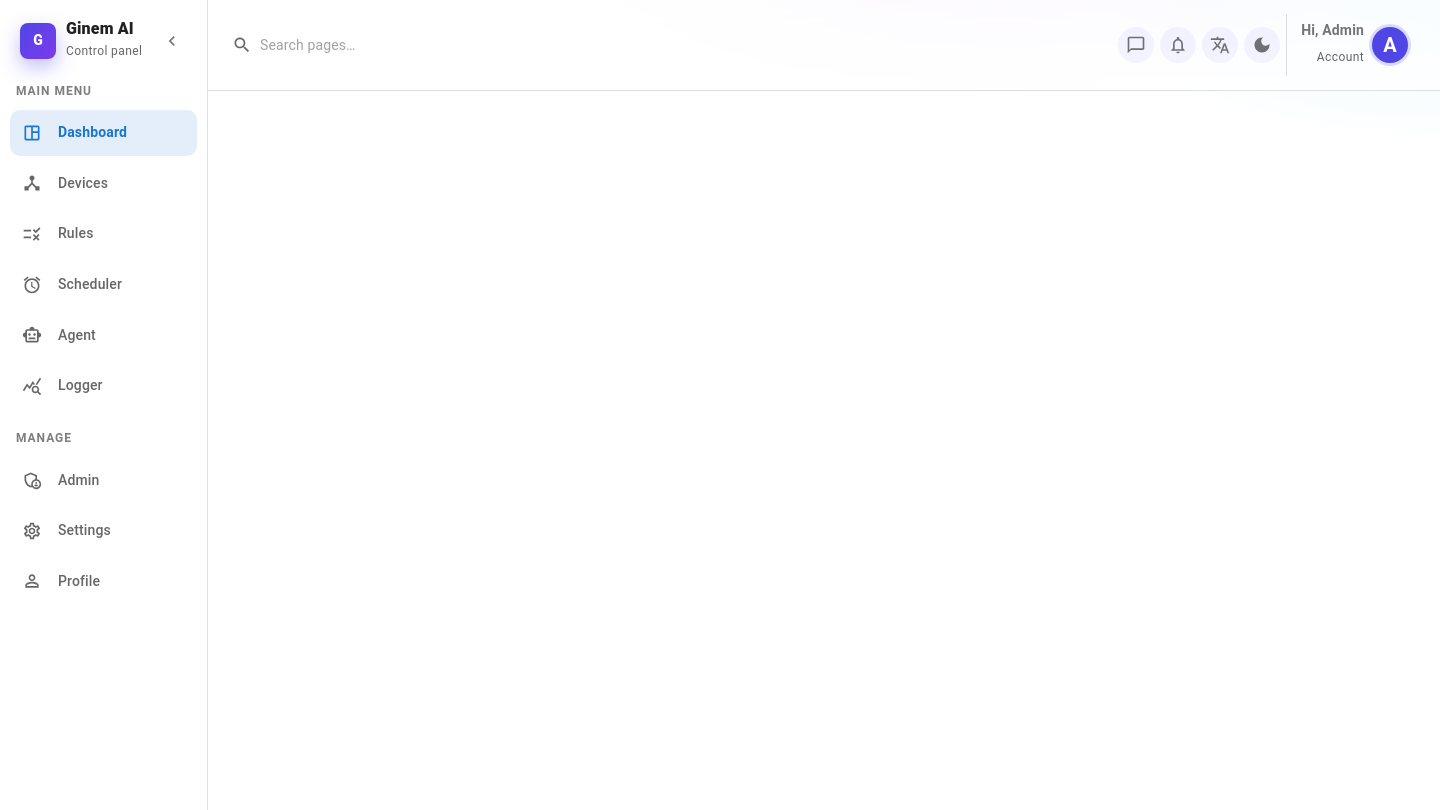
AppLayout sidebar › has no menu button in the header on desktop, the toggle lives in the sidebar
Step 1. Click the button named "Close menu" → click(172, 41), box [157,26,187,56]
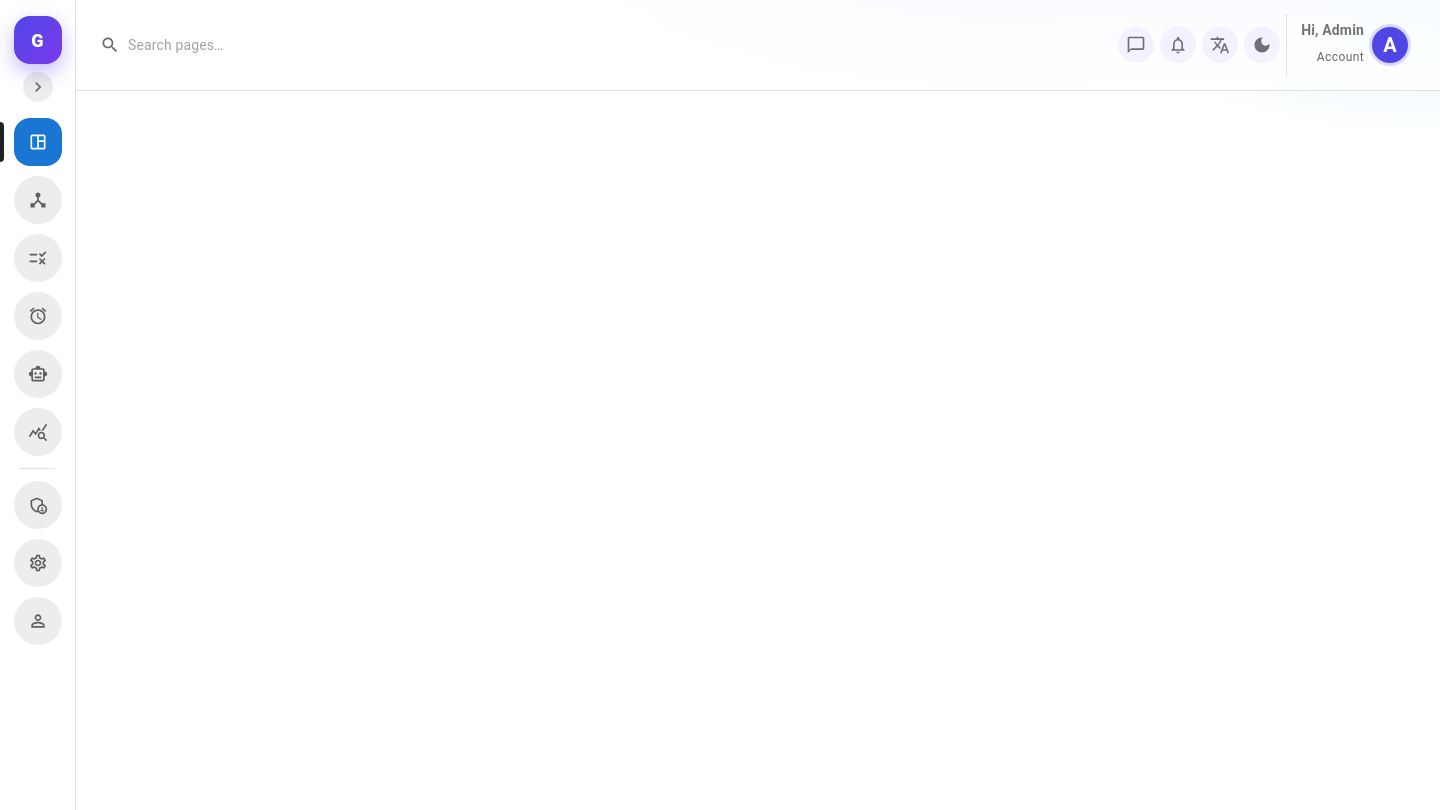
Expected: the text "menu" is gone
